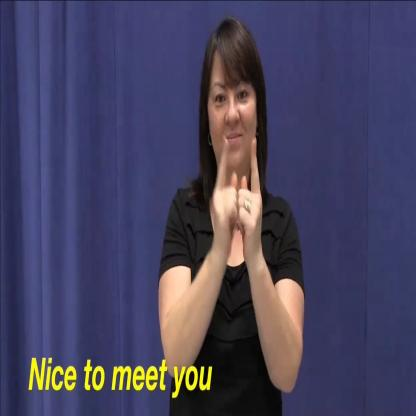NiceToMeetYou: (205, 111, 276, 270)
